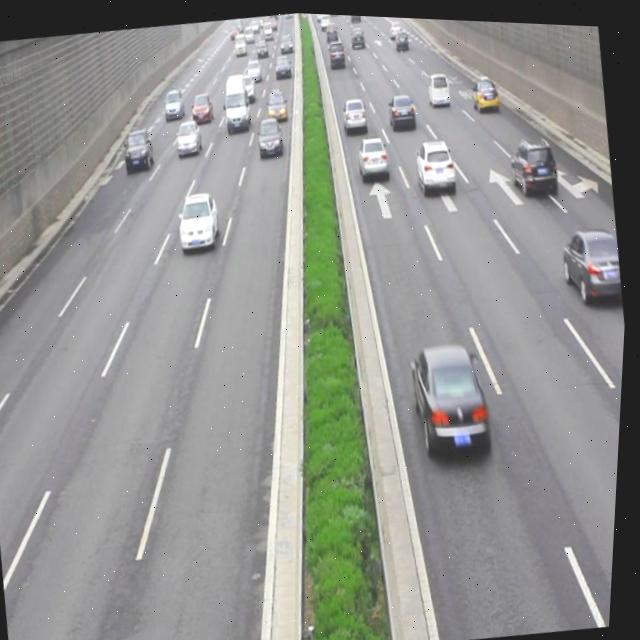car: (407, 331, 500, 459), (559, 216, 627, 298), (507, 127, 562, 196), (175, 184, 227, 253), (412, 132, 459, 194), (355, 129, 392, 177), (122, 124, 158, 172), (386, 87, 420, 129), (255, 112, 285, 155), (175, 116, 206, 155), (470, 70, 501, 109), (340, 92, 370, 130), (425, 65, 453, 105), (162, 83, 188, 121), (189, 87, 216, 122), (265, 84, 289, 117)
truck: (220, 69, 255, 131)
